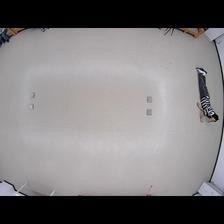fall: (193, 66, 220, 124)
